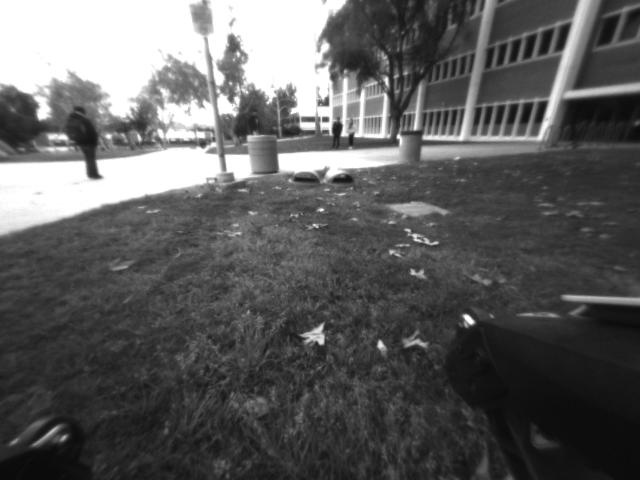trashcan: (243, 136, 281, 175), (401, 130, 423, 161)
